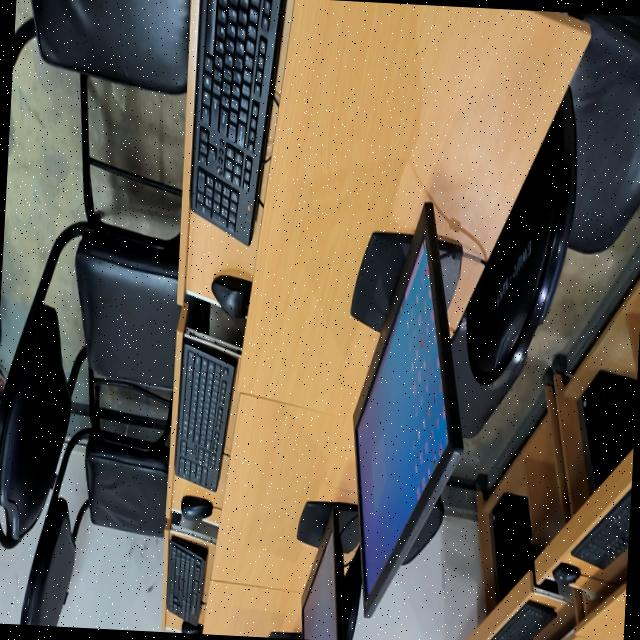Chair: (0, 75, 180, 549), (464, 13, 640, 406), (21, 367, 172, 627), (31, 0, 190, 95), (451, 326, 514, 438), (403, 497, 444, 564), (109, 498, 117, 506)
Cpu: (582, 371, 637, 487), (492, 494, 543, 601)
Keyboard: (191, 0, 283, 245), (177, 343, 235, 491), (572, 490, 632, 569), (167, 537, 207, 624), (490, 601, 557, 640)
Monitor: (351, 203, 464, 617), (297, 502, 362, 640)
Mouse: (212, 276, 252, 319), (181, 496, 213, 521), (553, 564, 581, 586), (182, 622, 203, 634)
